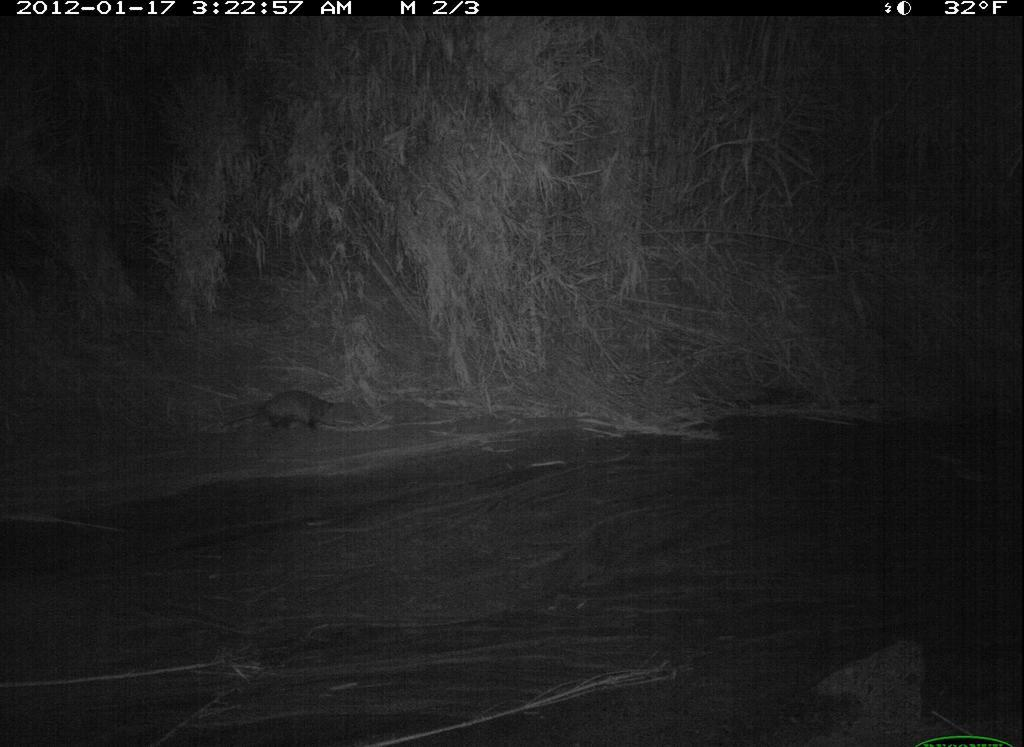opossum: (244, 381, 356, 452)
